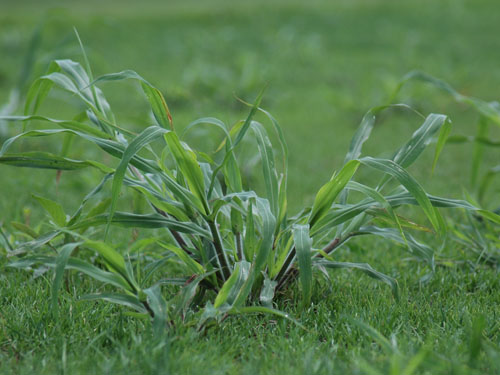crabgrass: (41, 104, 414, 315)
